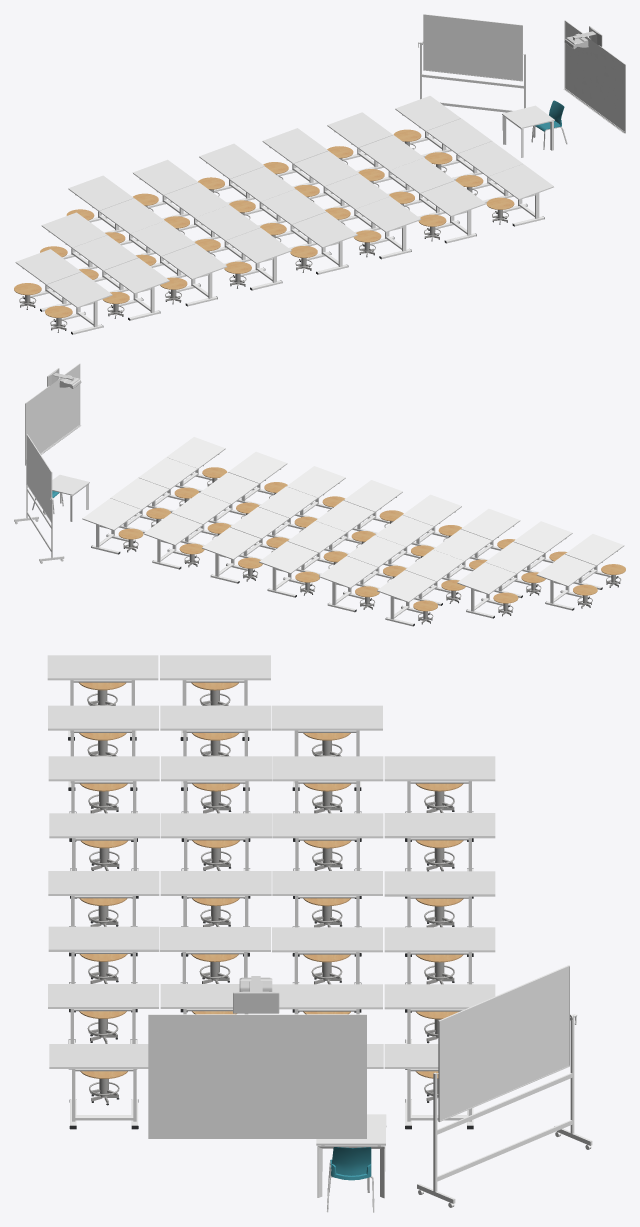
Rendered from SALLE_B2.fbx.
3 views of the same model, one above another, from view 1: azimuth 30°, elevation 25°; view 2: azimuth 150°, elevation 25°; view 3: azimuth 270°, elevation 25° (orthographic). The views are drawn at different scales.
Visible parts, largest first — view 1: table_dessin_B2, tabouret_dossier_B2, tableau_roulant_B2, tableau_B2, tabouret_support_B2, table_simple_B2, tableau_projo_B2; view 2: table_dessin_B2, tabouret_dossier_B2, tableau_B2, tableau_roulant_B2, tabouret_support_B2, table_simple_B2, tableau_projo_B2; view 3: table_dessin_B2, tableau_B2, tableau_roulant_B2, tabouret_support_B2, tabouret_dossier_B2, table_simple_B2, tableau_projo_B2, chaise_dossier_B2, table_dessin_bouchon_B2.
Boxes of the visible parts, bbox=[...] form: table_dessin_B2: bbox=[15, 96, 553, 334]; tabouret_dossier_B2: bbox=[14, 129, 514, 317]; tableau_roulant_B2: bbox=[418, 14, 525, 112]; tableau_B2: bbox=[564, 20, 625, 133]; tabouret_support_B2: bbox=[19, 141, 508, 331]; table_simple_B2: bbox=[502, 105, 554, 157]; tableau_projo_B2: bbox=[564, 26, 602, 49]; table_dessin_B2: bbox=[82, 437, 624, 626]; tabouret_dossier_B2: bbox=[118, 467, 625, 611]; tableau_B2: bbox=[25, 363, 80, 465]; tableau_roulant_B2: bbox=[14, 434, 64, 563]; tabouret_support_B2: bbox=[123, 478, 621, 623]; table_simple_B2: bbox=[43, 474, 89, 521]; tableau_projo_B2: bbox=[47, 368, 81, 388]; table_dessin_B2: bbox=[47, 655, 495, 1125]; tableau_B2: bbox=[148, 1014, 366, 1138]; tableau_roulant_B2: bbox=[417, 965, 592, 1207]; tabouret_support_B2: bbox=[87, 690, 454, 1103]; tabouret_dossier_B2: bbox=[79, 682, 463, 1078]; table_simple_B2: bbox=[316, 1114, 386, 1198]; tableau_projo_B2: bbox=[233, 976, 279, 1013]; chaise_dossier_B2: bbox=[330, 1147, 371, 1180]; table_dessin_bouchon_B2: bbox=[68, 737, 473, 1129].
Size of the model in its own units: 1328 by 272 by 588.
